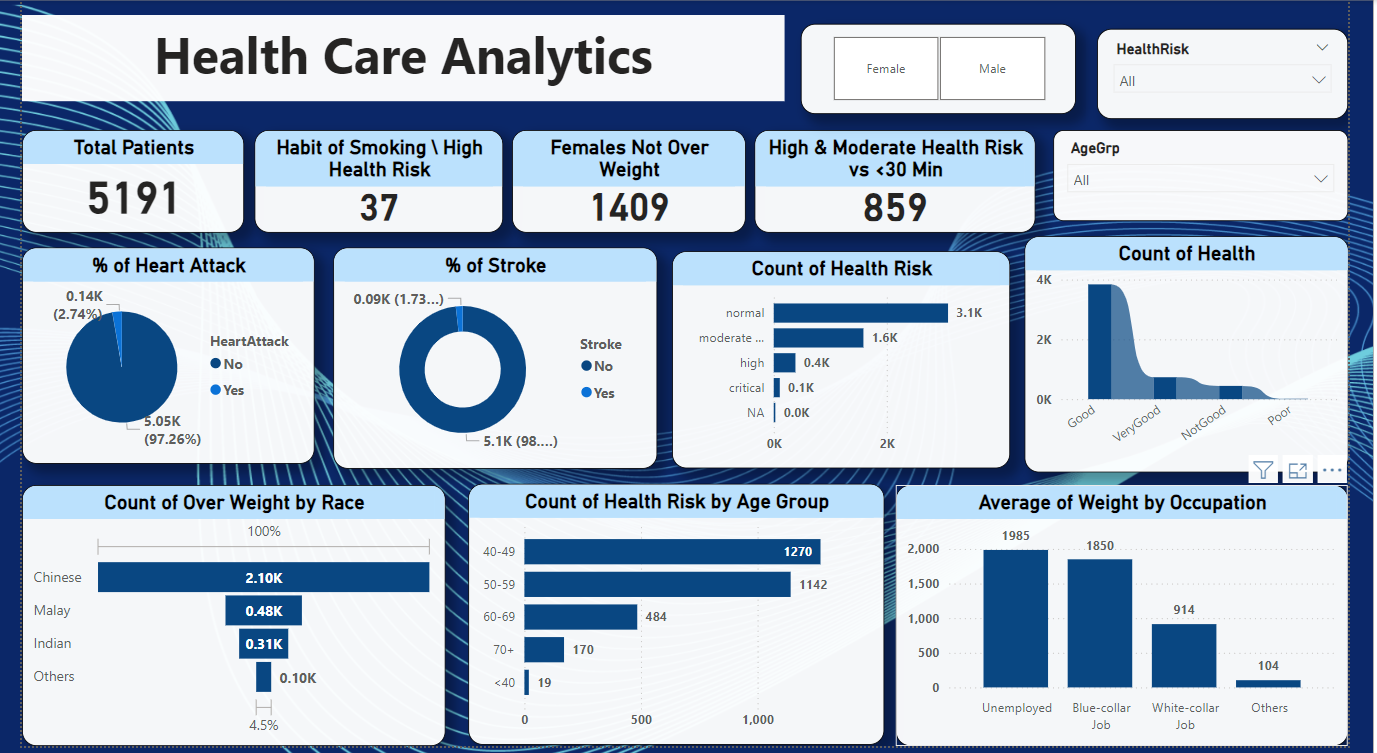

What the dashboard file says about the page in this screenshot:
{"tool":"powerbi","page":{"name":"Page 1","canvas":[1280,720],"ordinal":0},"visuals":[{"type":"card","title":"Total Patients","fields":{"Values":["CountNonNull(Table1.scnZone)"]},"box":[0,125.5,214.7,98.9],"z":0},{"type":"textbox","box":[0,14.5,735.9,83.2],"z":1000},{"type":"card","title":"Habit of Smoking \\ High Health Risk","fields":{"Values":["CountNonNull(Table1.Smoking)"]},"box":[224.4,125.5,240.1,98.9],"z":2000},{"type":"card","title":"Females Not Over Weight","fields":{"Values":["CountNonNull(Table1.Overweight)"]},"box":[472.9,125.5,225.6,98.9],"z":3000},{"type":"pieChart","title":"% of Heart Attack","fields":{"Category":["Table1.HeartAttack"],"Y":["CountNonNull(Table1.HeartAttack)"]},"box":[0,238.9,282.3,208.7],"z":4000},{"type":"donutChart","title":"% of Stroke","fields":{"Category":["Table1.Stroke"],"Y":["CountNonNull(Table1.Stroke)"]},"box":[300.4,238.9,312.5,213.5],"z":5000},{"type":"barChart","title":"Count of Health Risk","fields":{"Category":["Table1.healthRisk"],"Y":["CountNonNull(Table1.healthRisk)"]},"box":[627.1,242.9,326.6,209.9],"z":6000},{"type":"funnel","title":"Count of Over Weight by Race","fields":{"Category":["Table1.Race"],"Y":["CountNonNull(Table1.Overweight)"]},"box":[0,468.1,409,252.1],"z":7000},{"type":"barChart","title":"Count of Health Risk by Age Group","fields":{"Category":["Table1.AgeGrp"],"Y":["CountNonNull(Table1.healthRisk)"]},"box":[430.7,466.9,401.7,252.1],"z":8000},{"type":"card","title":"High & Moderate Health Risk vs <30 Min","fields":{"Values":["CountNonNull(Table1.healthRisk)"]},"box":[707,125.5,271.4,98.9],"z":9000},{"type":"ribbonChart","title":"Count of Health","fields":{"Category":["Table1.Health"],"Y":["CountNonNull(Table1.Health)"]},"box":[967.6,228,312.5,228],"z":10000},{"type":"slicer","fields":{"Values":["Table1.Gender"]},"box":[751.6,22.9,265.4,86.9],"z":11000},{"type":"slicer","fields":{"Values":["Table1.healthRisk"]},"box":[1037.5,27.7,242.5,86.9],"z":12000},{"type":"slicer","fields":{"Values":["Table1.AgeGrp"]},"box":[995.3,125.5,284.7,88.1],"z":13000},{"type":"clusteredColumnChart","title":"Average of Weight by Occupation","fields":{"Category":["Table1.OccupationType"],"Y":["CountNonNull(Table1.Weight)"]},"box":[843.3,468.1,436.7,252.1],"z":14000}]}

Visuals, with their boxes in screenshot pixels (x1, y1, x2, y2), scaled from the page's 1280x720 canvas onto the 1377x753 screenshot:
"Total Patients" card: {"left": 0, "top": 131, "right": 231, "bottom": 235}
textbox: {"left": 0, "top": 15, "right": 792, "bottom": 102}
"Habit of Smoking \ High Health Risk" card: {"left": 241, "top": 131, "right": 500, "bottom": 235}
"Females Not Over Weight" card: {"left": 509, "top": 131, "right": 751, "bottom": 235}
"% of Heart Attack" pieChart: {"left": 0, "top": 250, "right": 304, "bottom": 468}
"% of Stroke" donutChart: {"left": 323, "top": 250, "right": 659, "bottom": 473}
"Count of Health Risk" barChart: {"left": 675, "top": 254, "right": 1026, "bottom": 474}
"Count of Over Weight by Race" funnel: {"left": 0, "top": 490, "right": 440, "bottom": 752}
"Count of Health Risk by Age Group" barChart: {"left": 463, "top": 488, "right": 895, "bottom": 752}
"High & Moderate Health Risk vs <30 Min" card: {"left": 761, "top": 131, "right": 1053, "bottom": 235}
"Count of Health" ribbonChart: {"left": 1041, "top": 238, "right": 1376, "bottom": 477}
slicer - Table1.Gender: {"left": 809, "top": 24, "right": 1094, "bottom": 115}
slicer - Table1.healthRisk: {"left": 1116, "top": 29, "right": 1376, "bottom": 120}
slicer - Table1.AgeGrp: {"left": 1071, "top": 131, "right": 1376, "bottom": 223}
"Average of Weight by Occupation" clusteredColumnChart: {"left": 907, "top": 490, "right": 1376, "bottom": 752}
